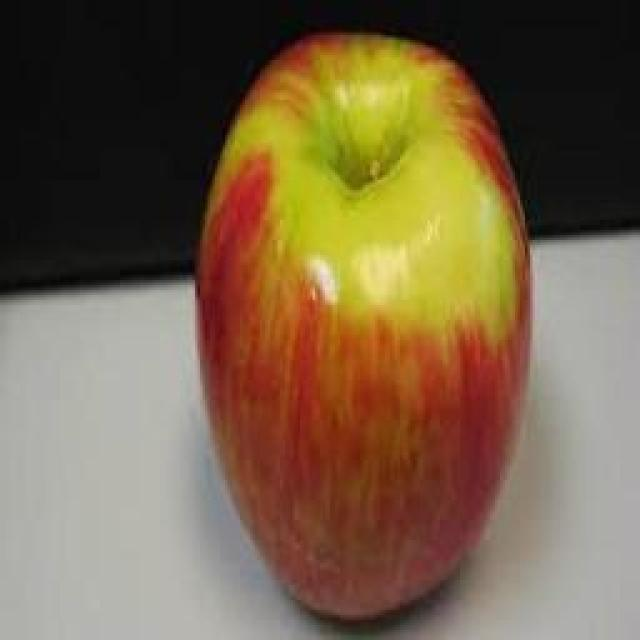apple: (194, 30, 534, 624)
